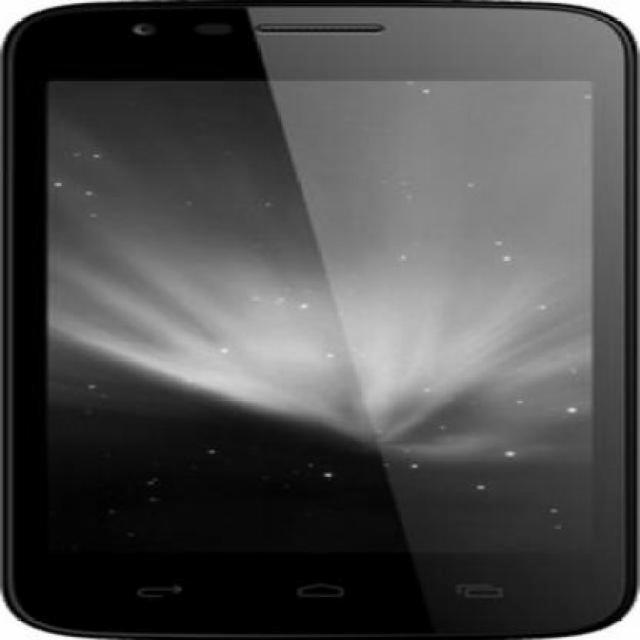fake: (12, 5, 640, 624)
